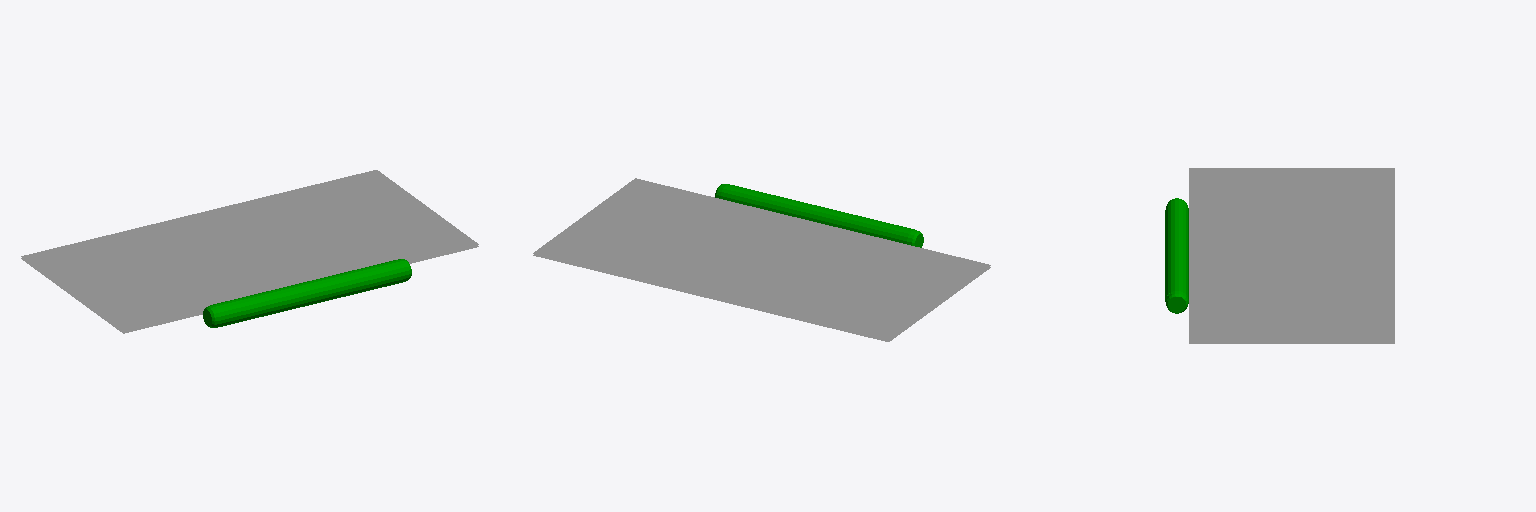
Rendered from f_down2.obj.
3 renders of one model, left to right at view 1: azimuth 30°, elevation 25°; view 2: azimuth 150°, elevation 25°; view 3: azimuth 270°, elevation 25°, orthographic.
Parts seen in each view (by area): view 1: 0FRONT_Plane.005, base_Cylinder.007, colors_Cylinder.009, 0BACK_Plane.000_0FRONT_Plane.006; view 2: 0FRONT_Plane.005, base_Cylinder.007, 0BACK_Plane.000_0FRONT_Plane.006; view 3: 0FRONT_Plane.005, base_Cylinder.007, colors_Cylinder.009.
Boxes of the visible parts, box(x1,y1,x2,y2) form: 0FRONT_Plane.005: box(21, 170, 478, 331); base_Cylinder.007: box(213, 260, 405, 326); colors_Cylinder.009: box(203, 259, 411, 327); 0BACK_Plane.000_0FRONT_Plane.006: box(21, 245, 478, 333); 0FRONT_Plane.005: box(533, 178, 990, 339); base_Cylinder.007: box(721, 184, 914, 243); 0BACK_Plane.000_0FRONT_Plane.006: box(533, 254, 990, 341); 0FRONT_Plane.005: box(1189, 168, 1394, 341); base_Cylinder.007: box(1165, 200, 1188, 300); colors_Cylinder.009: box(1165, 198, 1188, 313).
Bounding box in the file's own units: 3.58 × 0.2021 × 1.99.